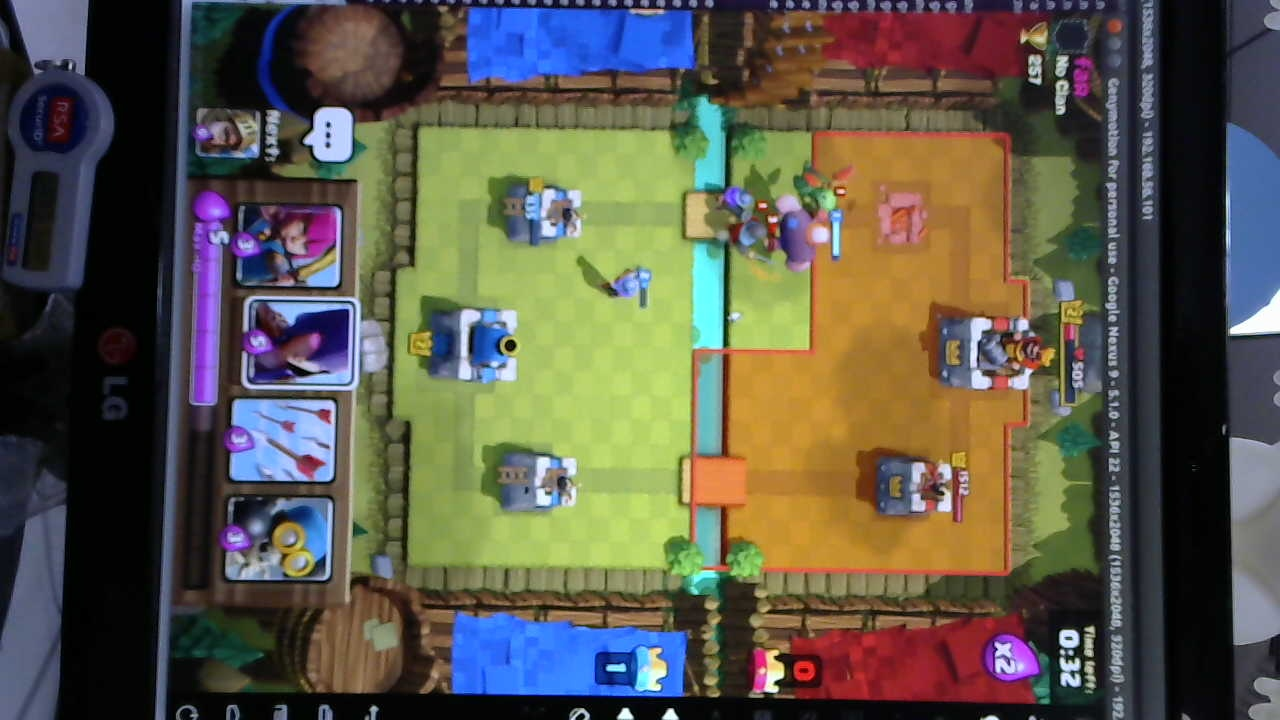arena: (497, 445, 584, 516), (500, 181, 580, 247)
dragon: (799, 164, 853, 214)
earena: (876, 456, 959, 523)
eking: (941, 311, 1045, 397)
giant: (771, 188, 827, 271)
king: (431, 304, 522, 385)
knight: (721, 217, 778, 251)
musketeer: (601, 263, 642, 304), (708, 191, 760, 223)
